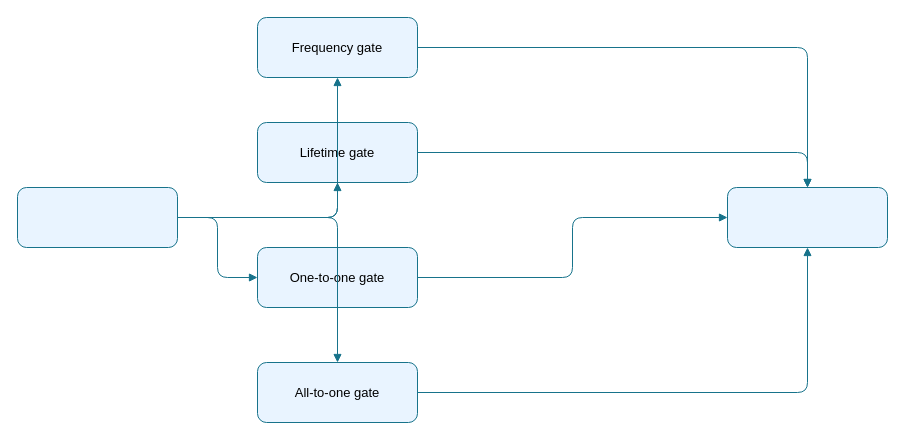
Some shapes in this 905 by 440 pixel diagram are drawn without their labels. The shapes that lost their labels are listed below. From the top down, each one's centre as x and y in pixels, then its label:
(x=97, y=217): FortiNAC event
(x=807, y=217): Alarm/action
